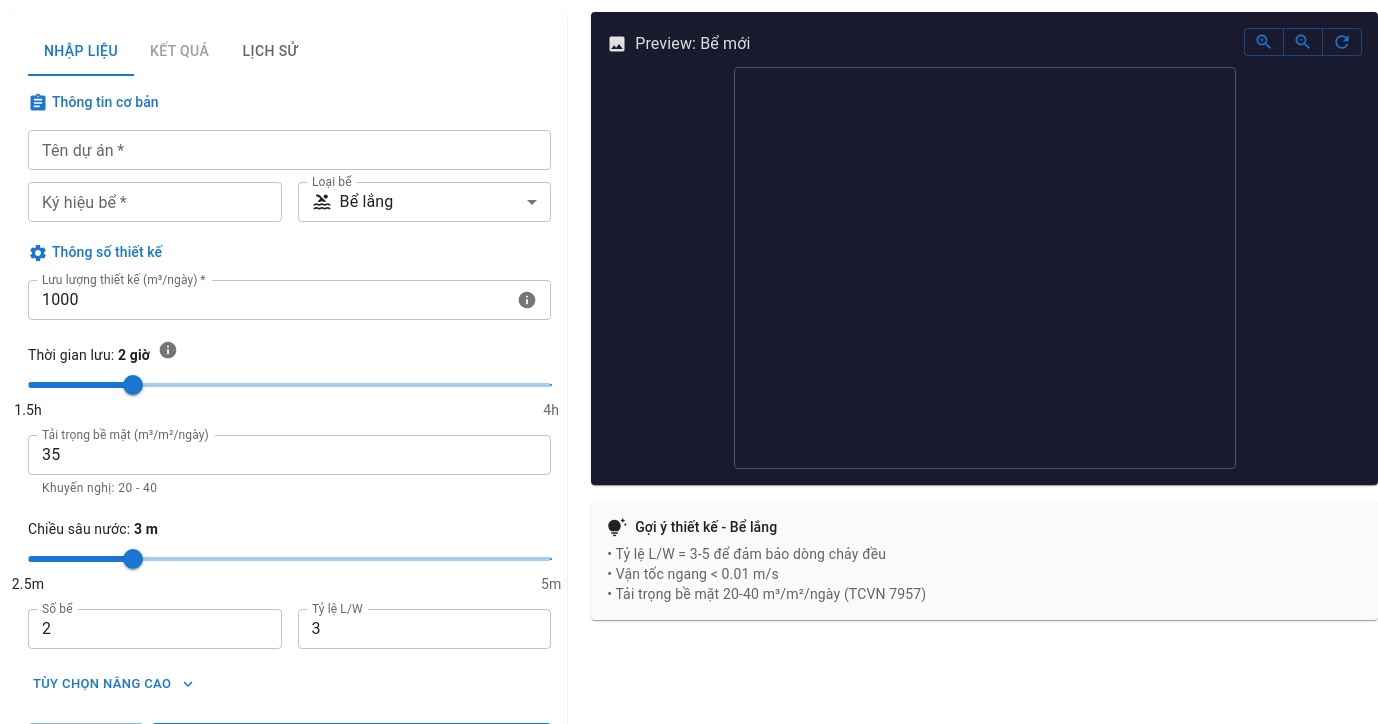
Test: TankDesignPage › shows error message on API failure
Type "Test Project" into the field labelled "Tên dự án *" at coordinates (290, 150), box [28,130,551,170]
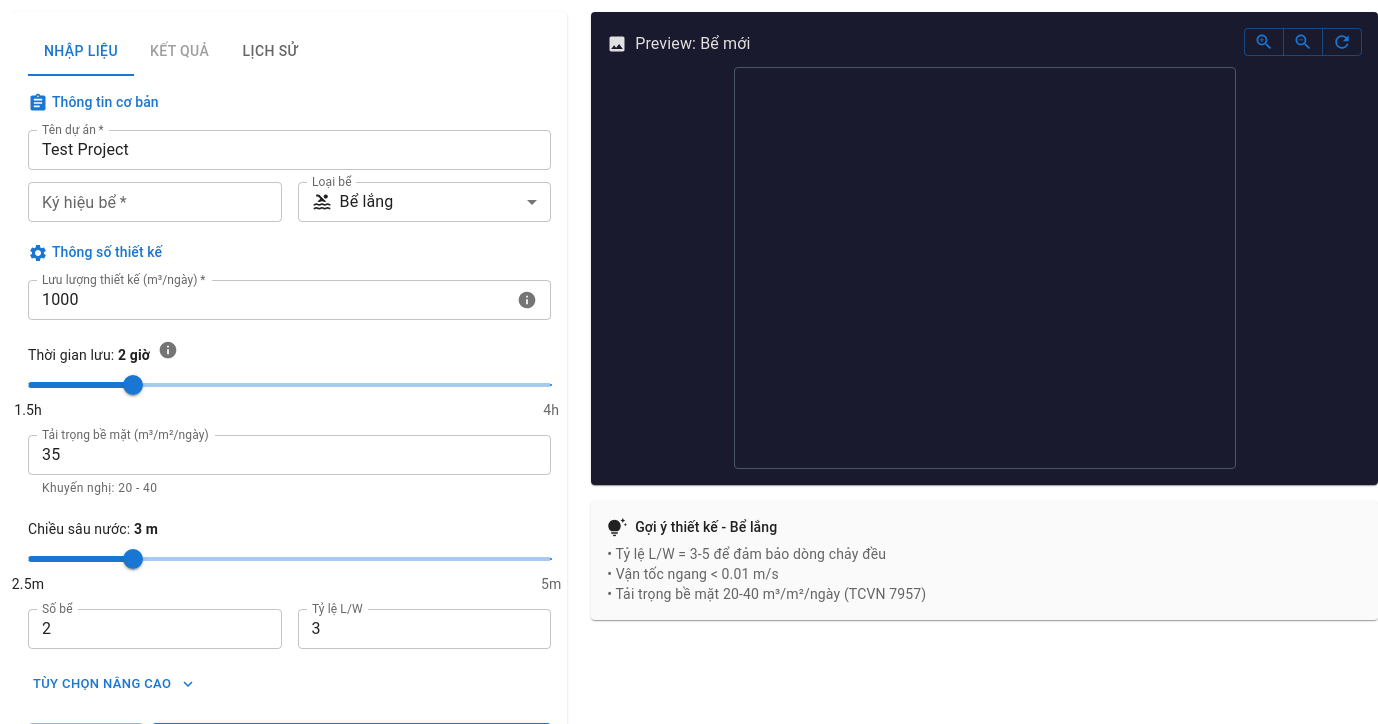
Type "BL-01" into the field labelled "Ký hiệu bể *" at coordinates (155, 202), box [28,182,282,222]
(page scrolled)
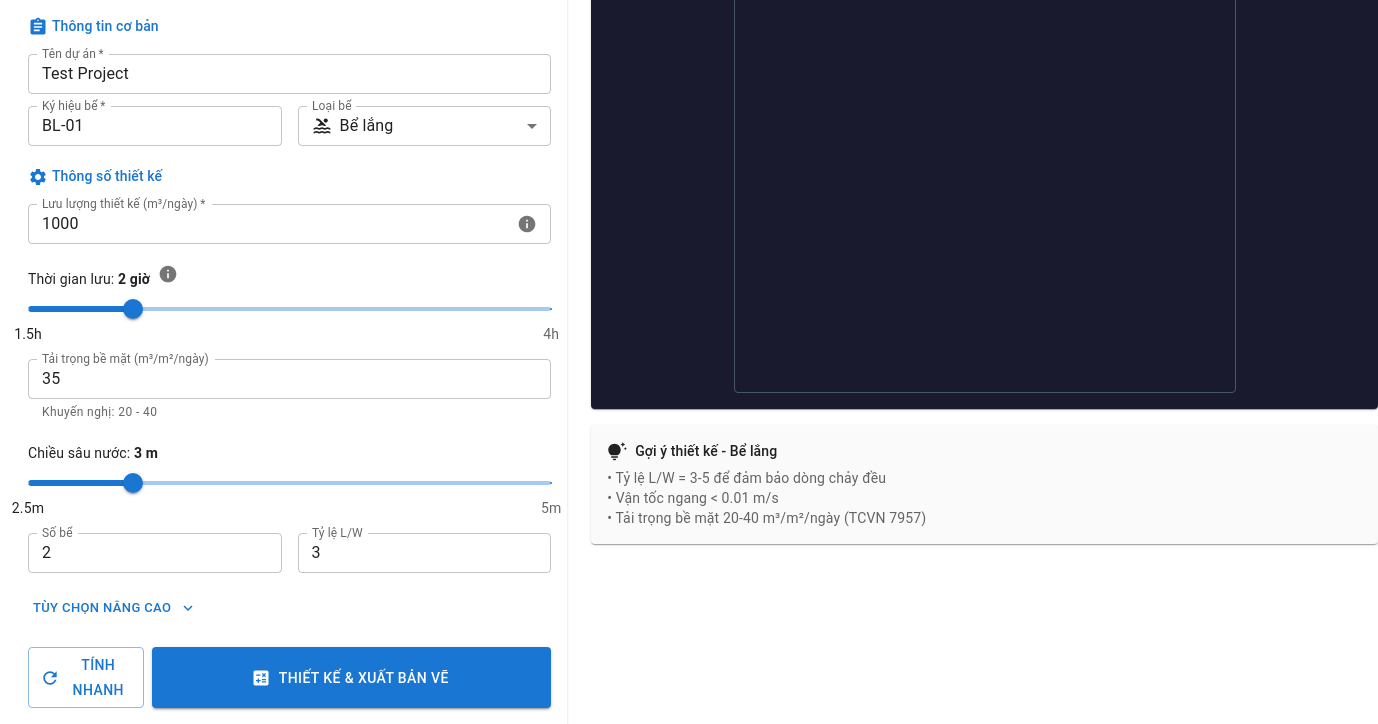
Click the button "Thiết kế & Xuất bản vẽ" at coordinates (352, 678), box [152,647,551,708]
(page scrolled)
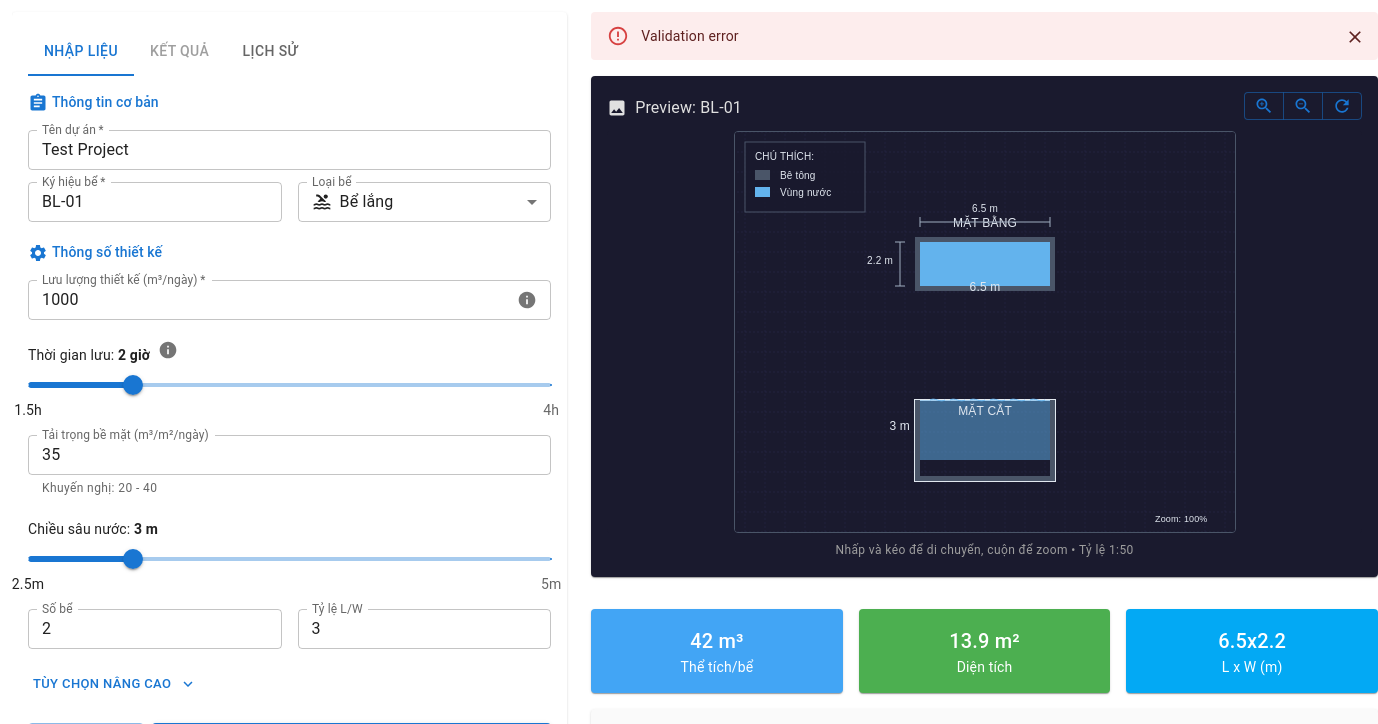
Expected: the text "Validation error" is shown, [641,28,739,44]
